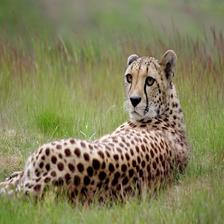Cheetah: (0, 49, 191, 213)
